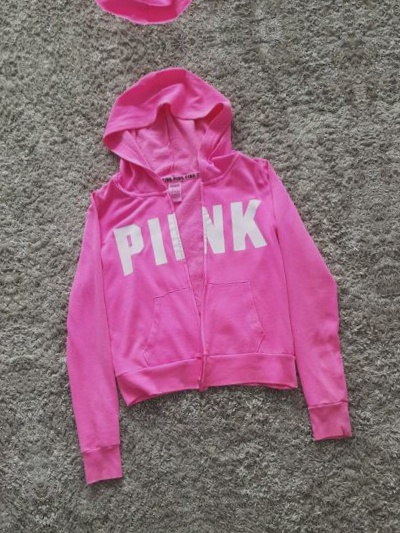Hoodie: (23, 38, 383, 486), (0, 0, 317, 51), (382, 0, 400, 432)
